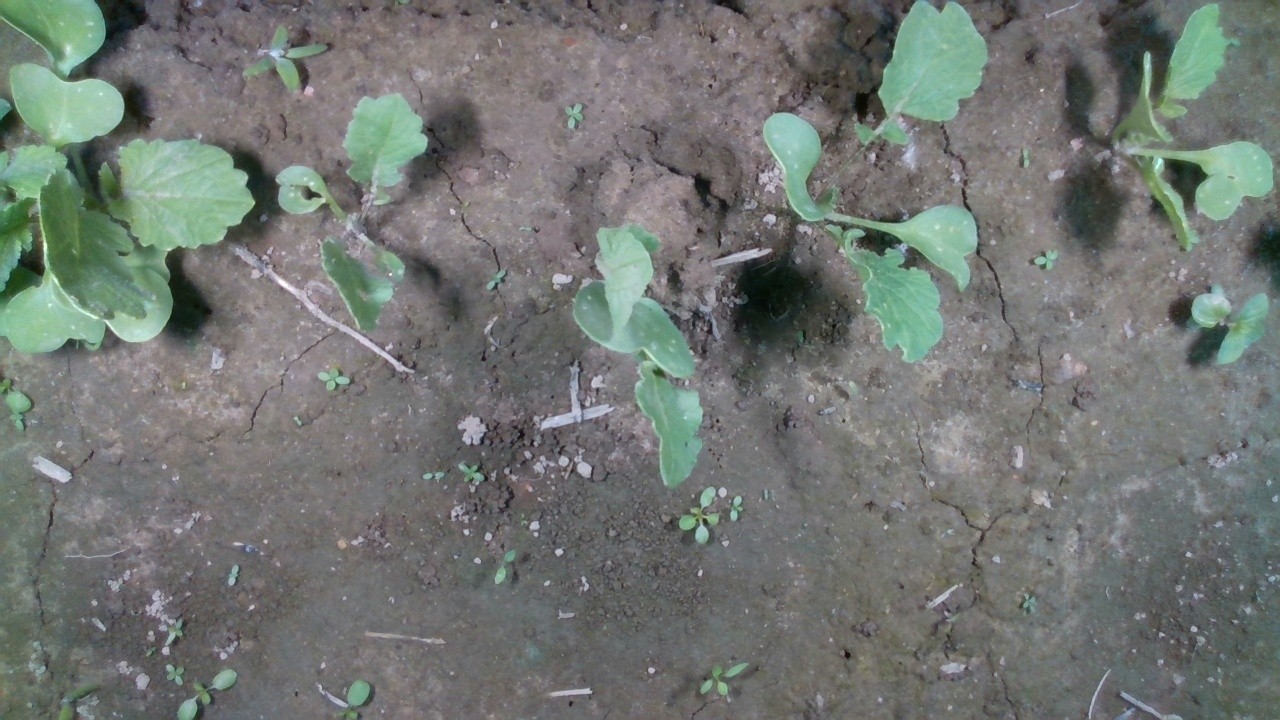weed: (241, 23, 330, 96), (675, 482, 721, 547), (699, 660, 751, 697), (492, 549, 516, 586), (316, 366, 351, 391), (1030, 249, 1059, 272), (164, 617, 185, 645), (564, 102, 584, 129), (457, 463, 484, 482), (164, 663, 185, 687), (729, 493, 744, 522), (1019, 590, 1037, 612), (1020, 143, 1031, 170), (227, 562, 239, 586), (420, 470, 446, 481)
